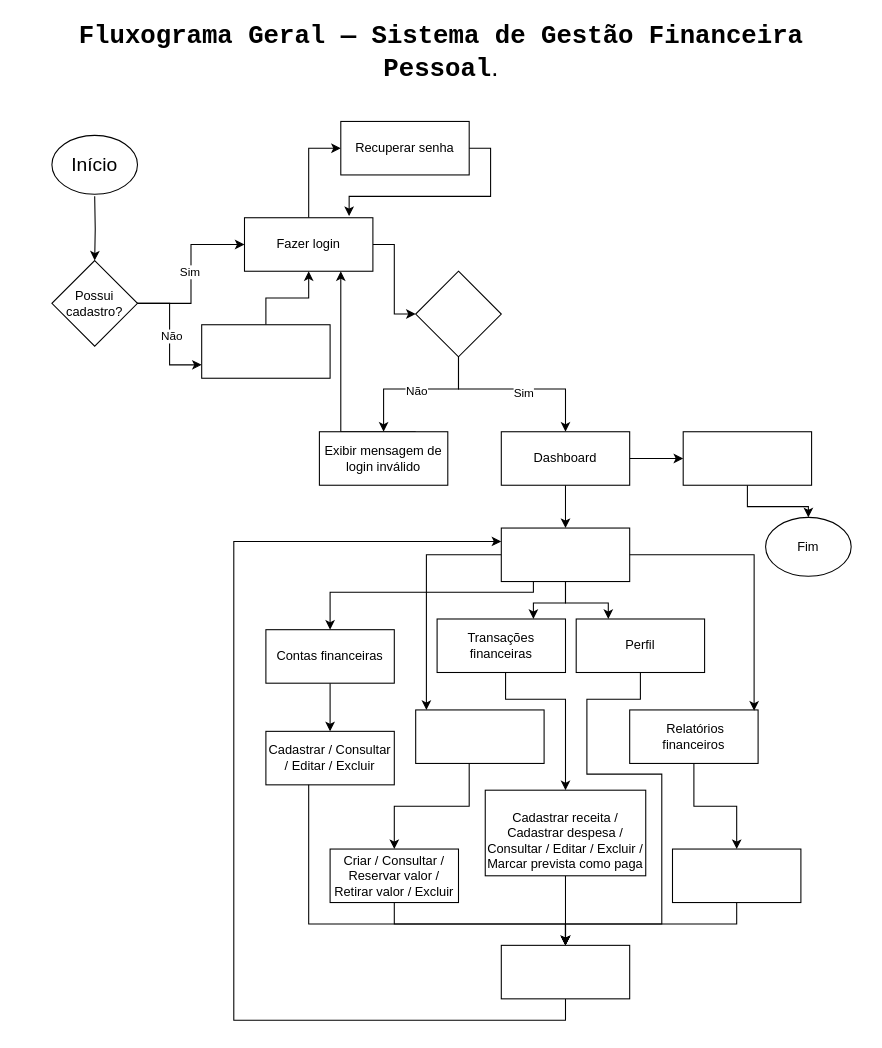
This 882x1048 diagram has some shape labels left out. Here are the shapes that lost their labels. From the top down, the centre of each, then its label:
At pixel 458 313: "Login válido?".
At pixel 265 351: "Fazer cadastro".
At pixel 747 458: "Sair".
At pixel 565 554: "Selecionar opção".
At pixel 479 736: "Metas financeiras".
At pixel 736 875: "Gerar relatório financeiro".
At pixel 565 971: "Continuar no sistema".
